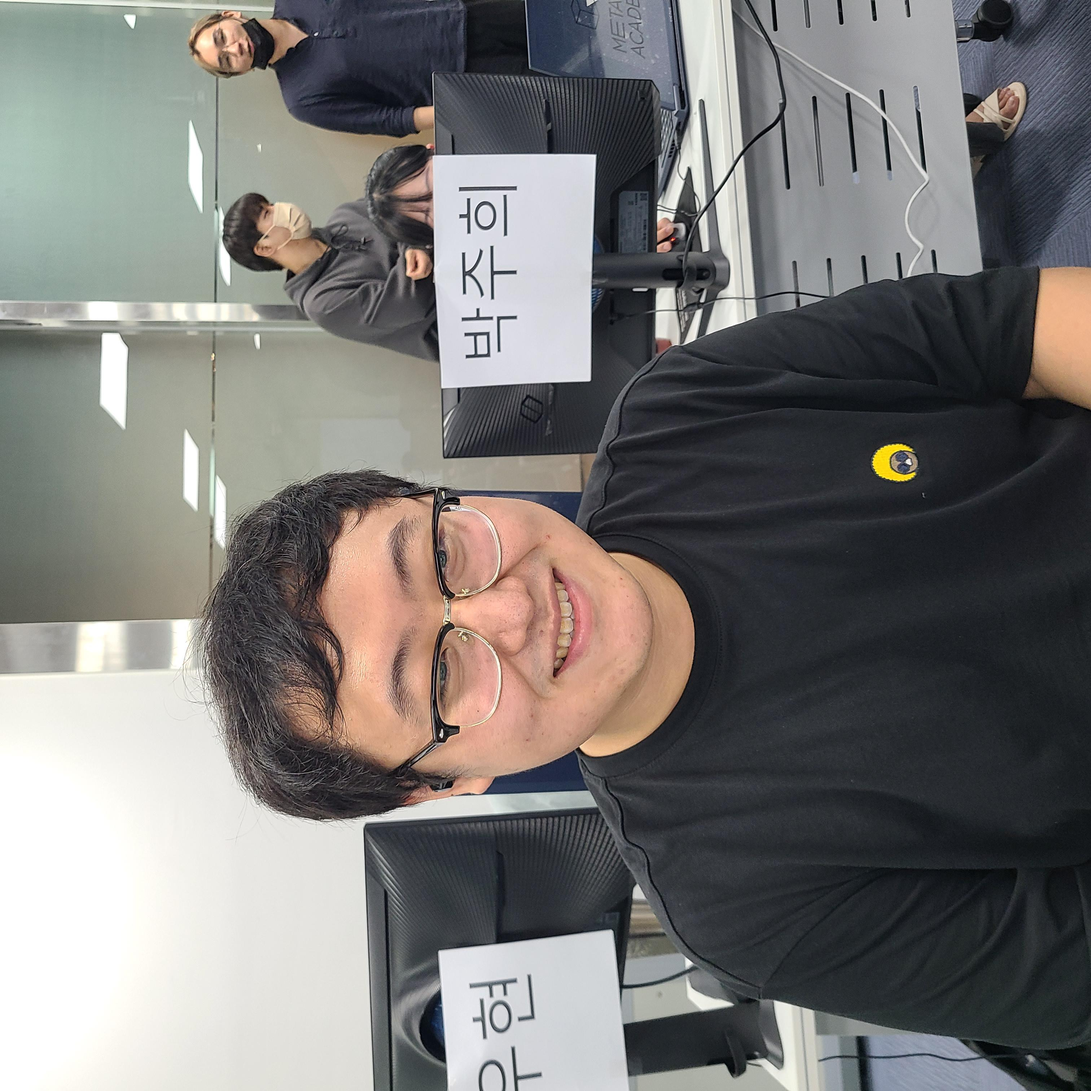earphone: (293, 421, 324, 463)
